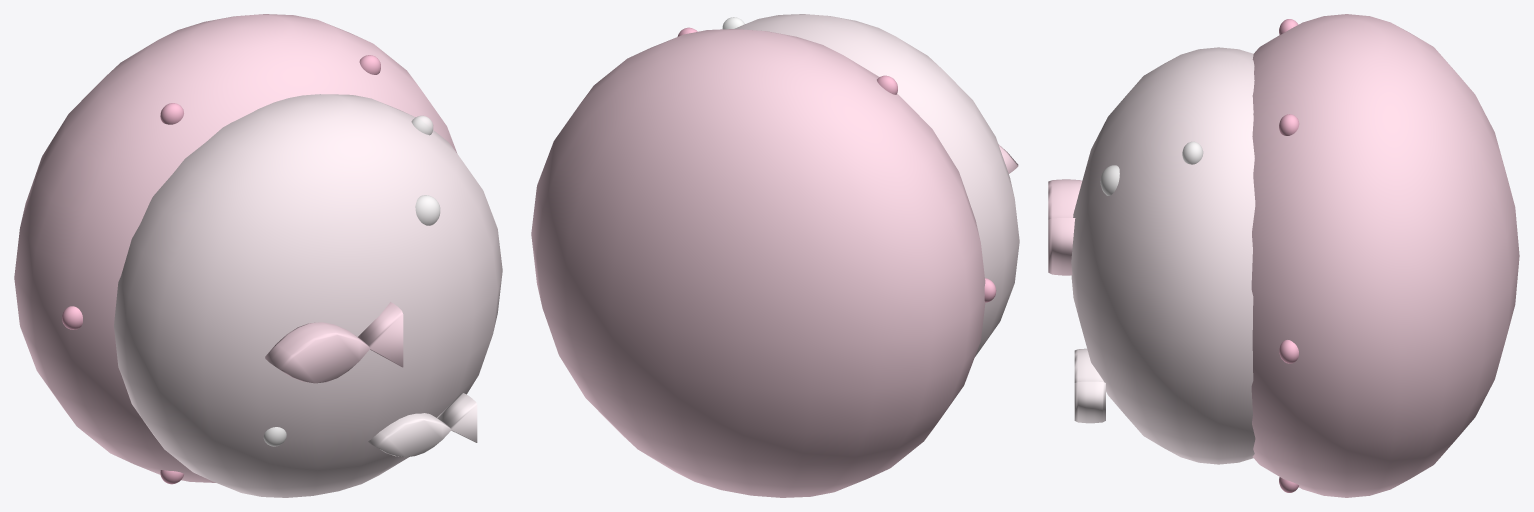
File: decor_2_candy.glb
The picture shows the model from 3 angles, left to right: view 1: azimuth 30°, elevation 25°; view 2: azimuth 150°, elevation 25°; view 3: azimuth 270°, elevation 25°; orthographic projection.
Visible parts, largest first — view 1: decor_2_candy; view 2: decor_2_candy; view 3: decor_2_candy.
Part boxes in pixels (<box>): decor_2_candy: <box>14,14,502,497</box>; decor_2_candy: <box>531,14,1019,497</box>; decor_2_candy: <box>1048,14,1519,497</box>.
Bounding box in the file's own units: 11.6 × 11.6 × 11.29.
